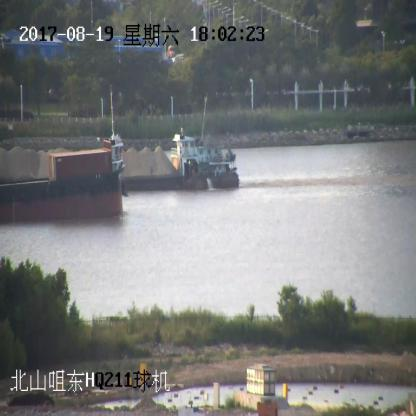Container Ship: (0, 137, 125, 219)
